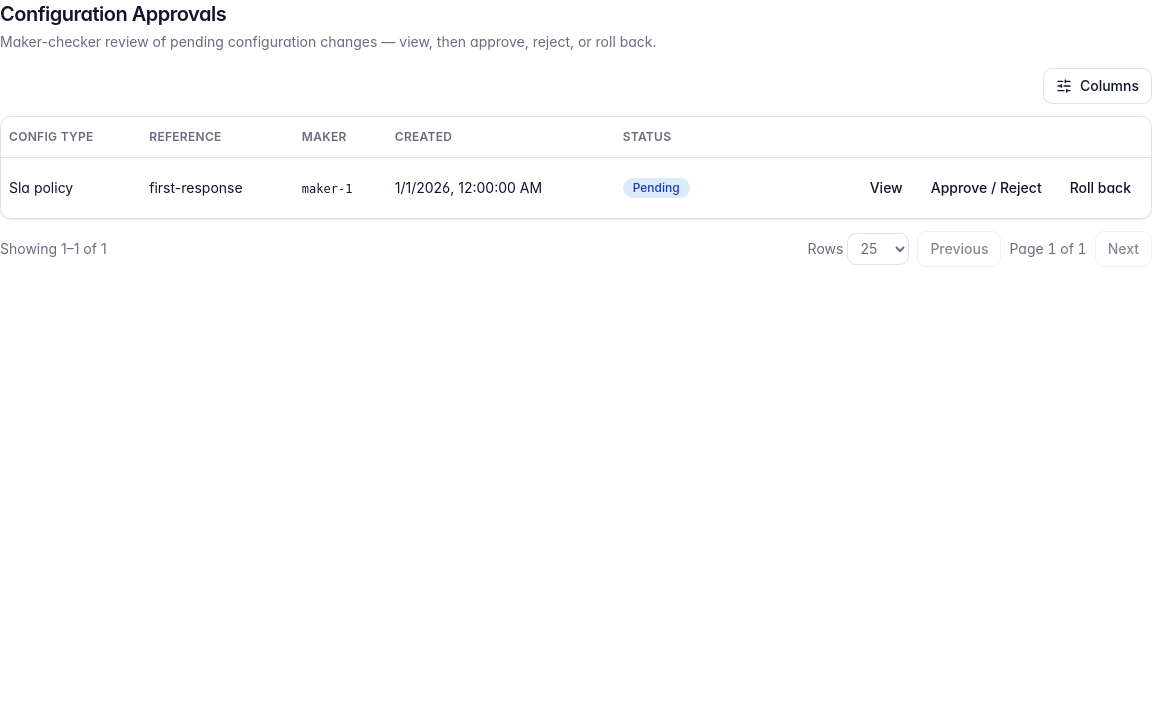
Test: ConfigGovernancePage › opens the review dialog from a row action
The width and height of the screenshot is (1152, 720).
Click the button "Approve / Reject": (986, 188) [919,170,1054,206]
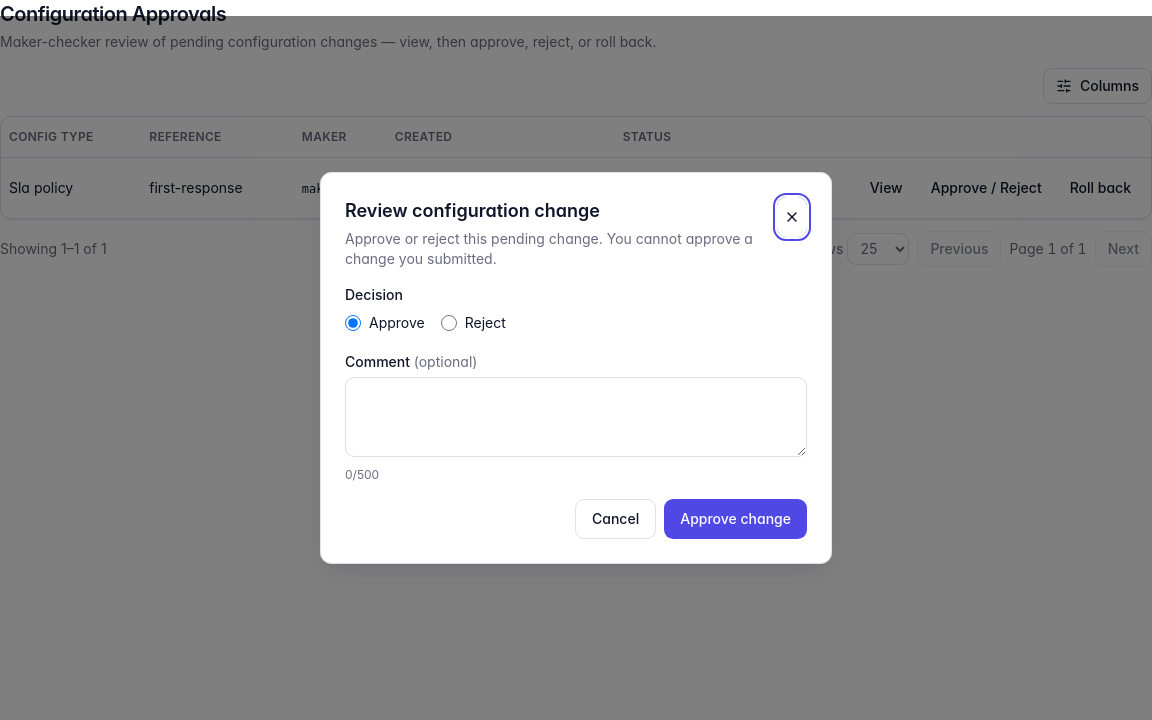
Result: the heading "Review configuration change" is shown at [345,200,600,221]
Result: the radio button labelled "Approve" is shown at [345,315,361,331]
Result: the radio button labelled "Reject" is shown at [441,315,457,331]
